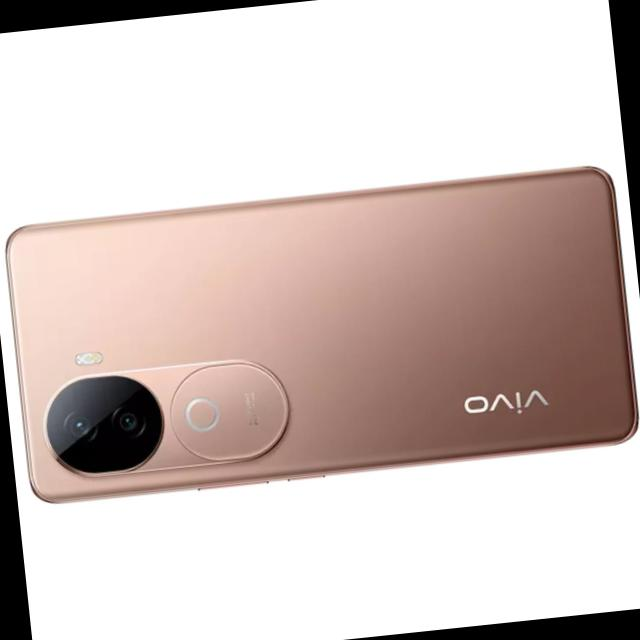mobile_phone: (0, 150, 640, 513)
